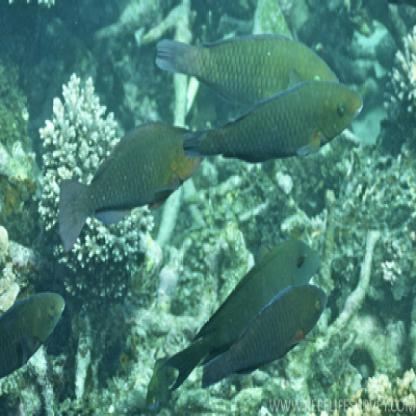parrot: (183, 73, 366, 168), (200, 271, 330, 391)
